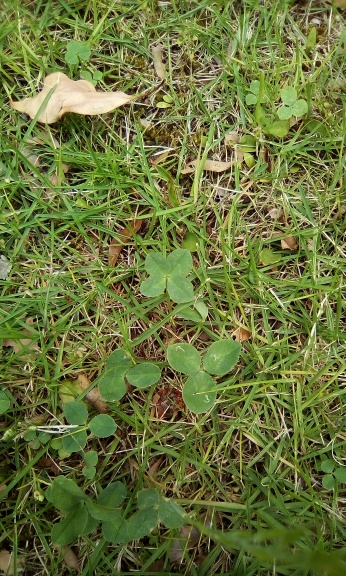4leaf: (139, 248, 193, 304)
